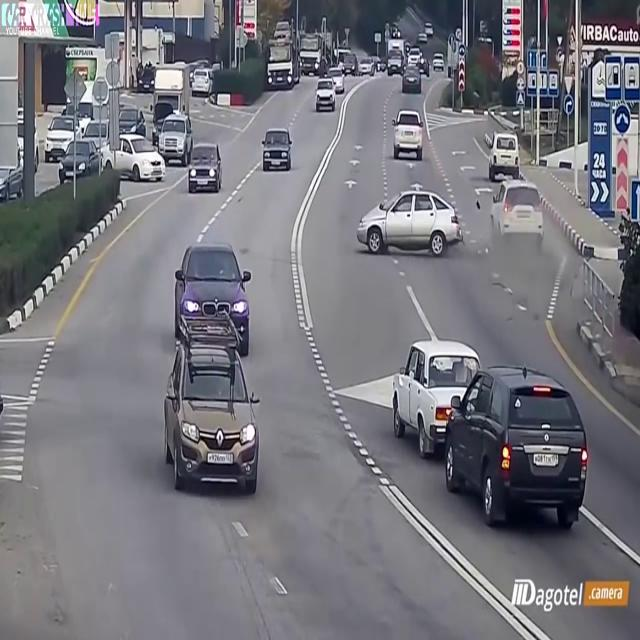Accident: (354, 170, 612, 276)
